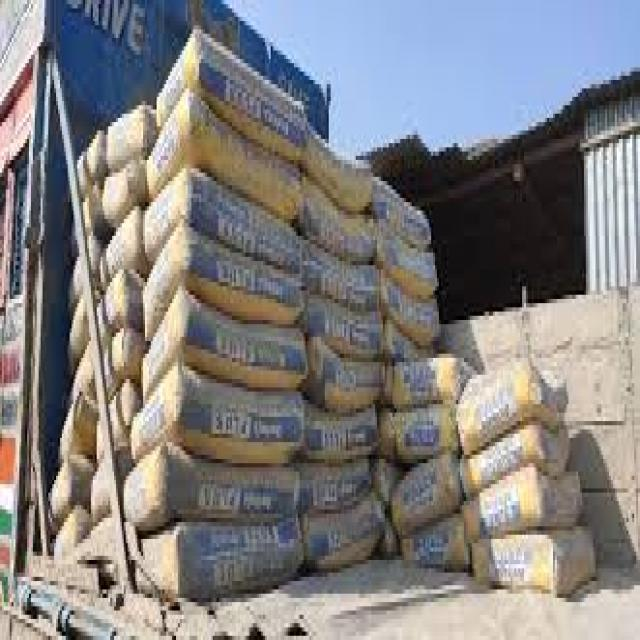cement_bag: (145, 91, 299, 207), (158, 27, 303, 147), (133, 367, 298, 470), (142, 300, 302, 401), (145, 232, 299, 335), (144, 172, 299, 269), (138, 515, 299, 596), (124, 455, 298, 522), (463, 365, 568, 453), (462, 421, 572, 502), (473, 524, 594, 596), (468, 468, 575, 547), (311, 495, 384, 574), (305, 243, 379, 313), (305, 184, 375, 254), (305, 128, 367, 200), (398, 453, 453, 534), (303, 406, 377, 461), (312, 344, 382, 401), (306, 456, 371, 514), (388, 404, 452, 458), (381, 231, 435, 291), (375, 182, 427, 241), (397, 360, 457, 409), (386, 278, 436, 332), (99, 212, 138, 281), (105, 113, 148, 167), (46, 455, 73, 525)
